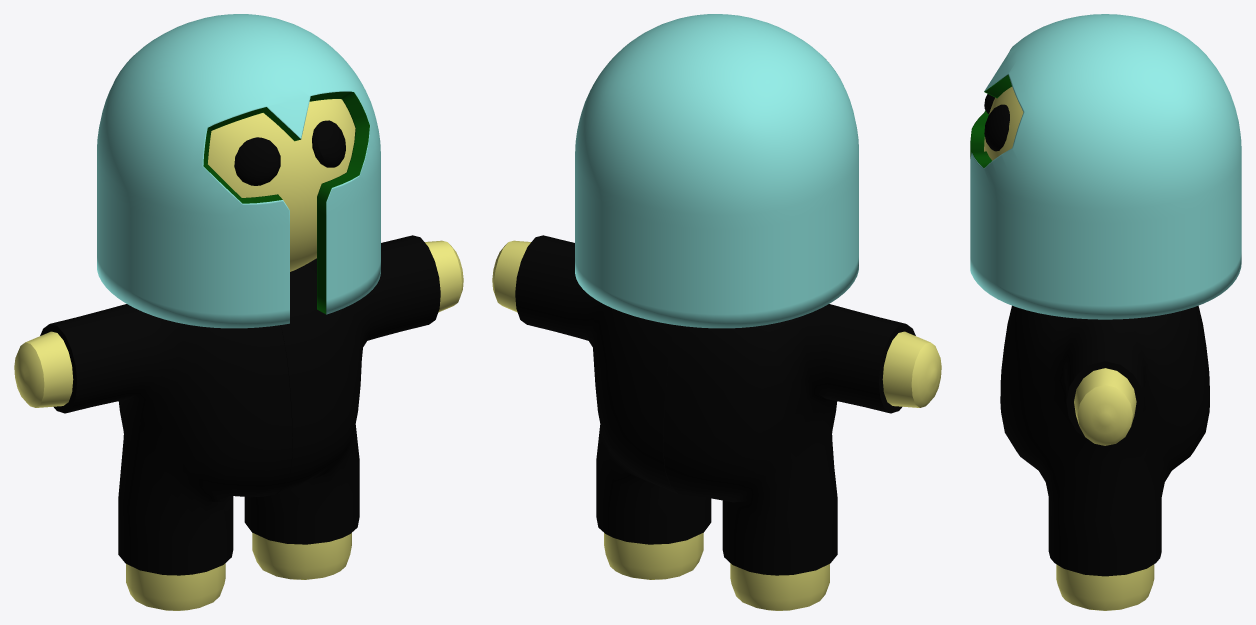
The model's file is knight.fbx.
The picture shows the model from 3 angles, left to right: view 1: azimuth 30°, elevation 25°; view 2: azimuth 150°, elevation 25°; view 3: azimuth 270°, elevation 25°; orthographic projection. The views are drawn at different scales.
Visible parts, largest first — view 1: Cloth, Helmet, Body, Head, Sphere.001, Sphere; view 2: Helmet, Cloth, Body; view 3: Helmet, Cloth, Body, Head, Sphere.
Part boxes in pixels (x1,y1,x2,y2): Cloth: (40,235,440,575); Helmet: (97,14,380,328); Body: (14,240,463,610); Head: (208,99,355,271); Sphere.001: (234,137,280,185); Sphere: (312,120,345,167); Helmet: (575,14,858,328); Cloth: (515,235,915,575); Body: (492,240,941,610); Helmet: (970,14,1241,319); Cloth: (1000,305,1209,576); Body: (1056,368,1154,610); Head: (984,87,1023,160); Sphere: (984,104,1009,151).
Bounding box in the file's own units: 325 × 390 × 179.
